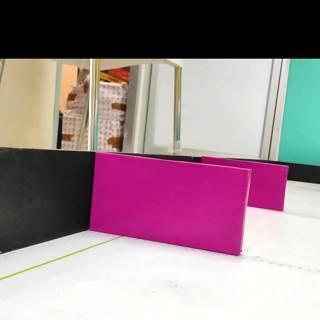xparking: (91, 152, 249, 255), (248, 163, 286, 212)
